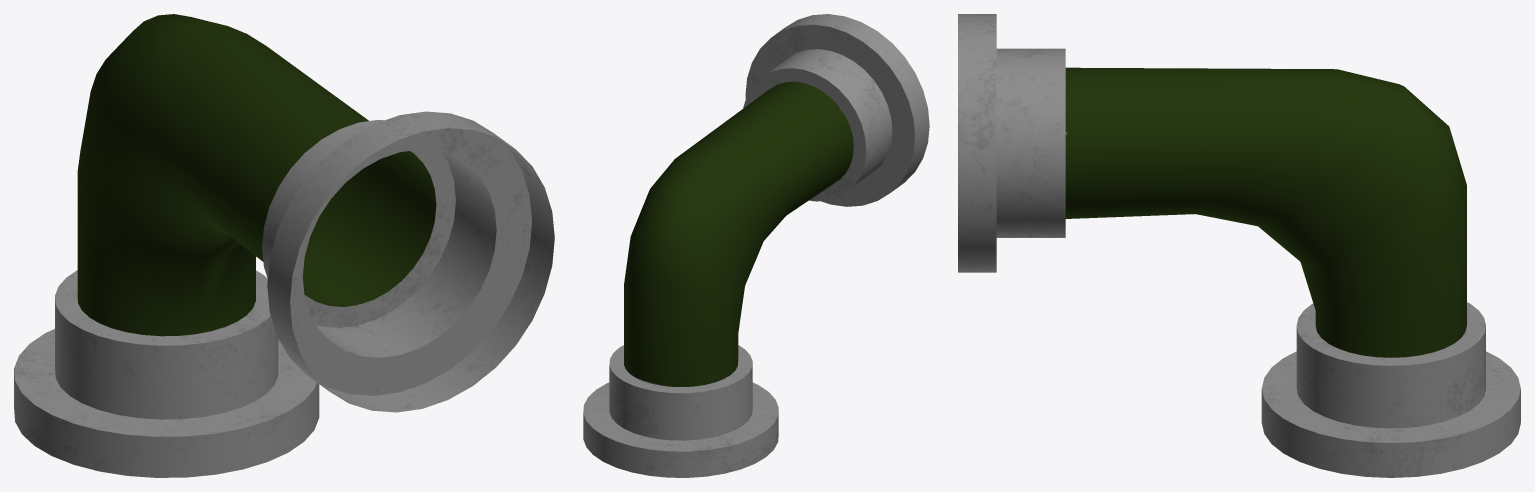
The model's file is pipe green.fbx.
3 renders of one model, left to right at view 1: azimuth 30°, elevation 25°; view 2: azimuth 150°, elevation 25°; view 3: azimuth 270°, elevation 25°, orthographic. The views are drawn at different scales.
Parts seen in each view (by area): view 1: Circle; view 2: Circle; view 3: Circle.
Part boxes in pixels (bbox=[...]): Circle: bbox=[14, 14, 554, 477]; Circle: bbox=[583, 14, 929, 477]; Circle: bbox=[958, 14, 1520, 477].
Size of the model in its own units: 54.03 by 91.41 by 117.
